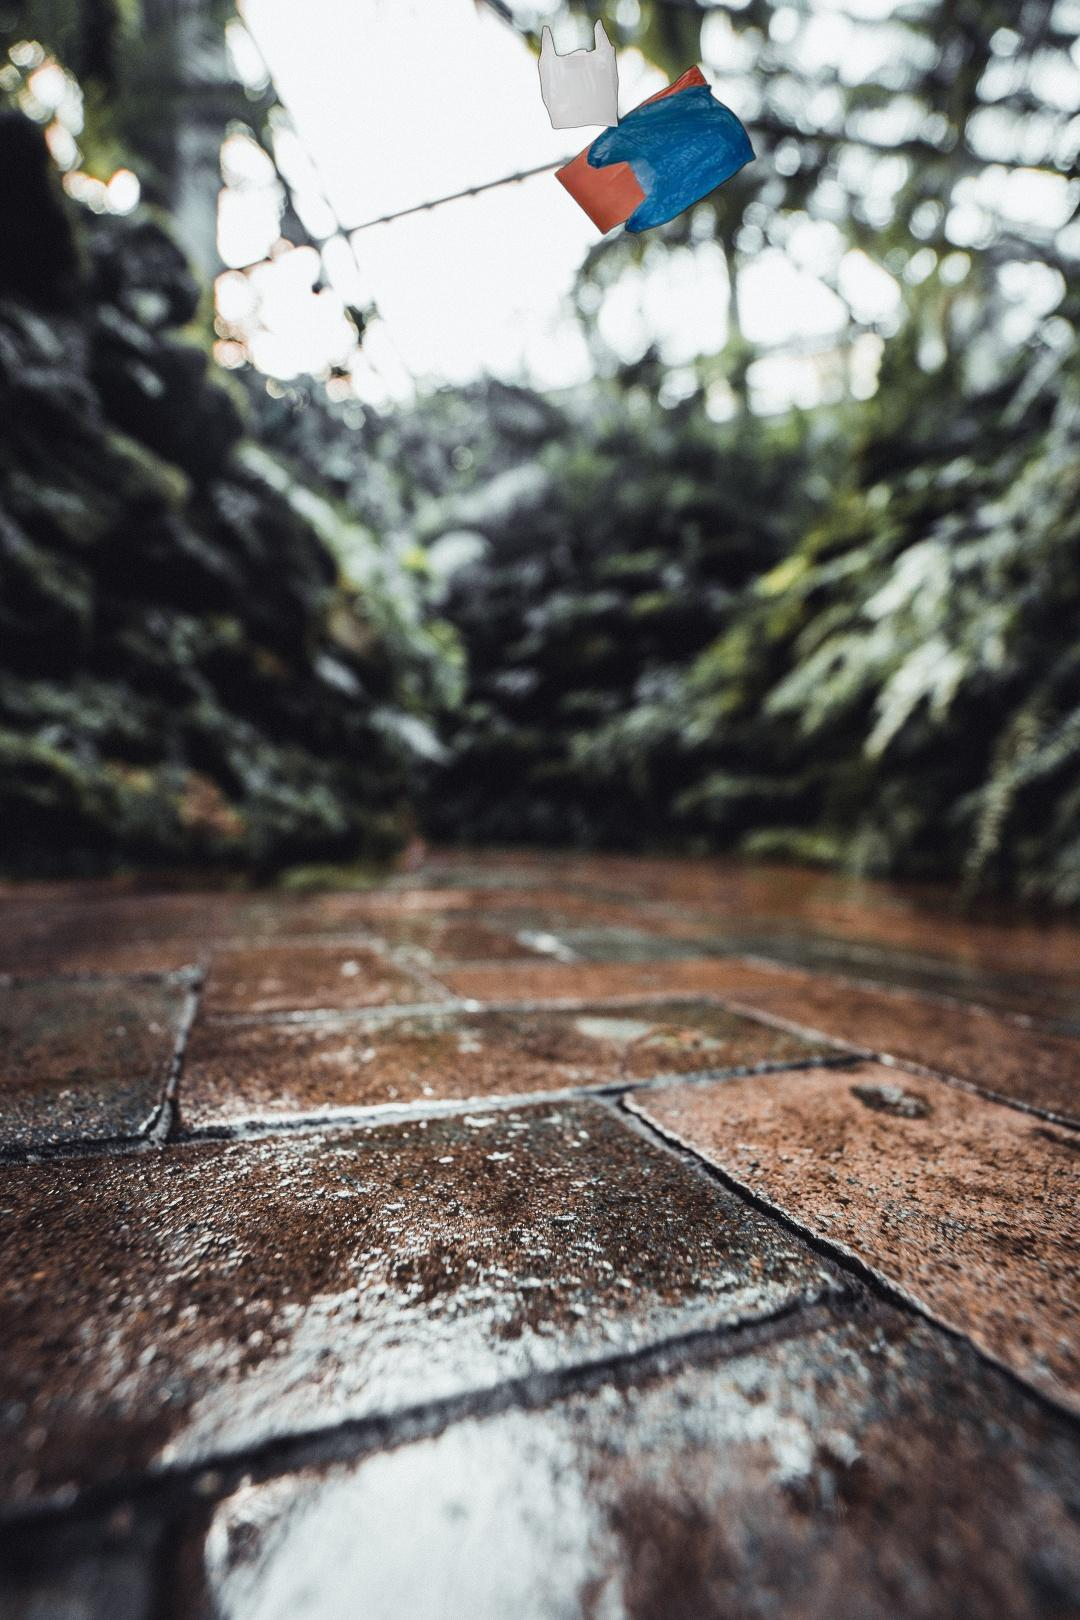plastic-bag: (538, 16, 758, 237)
